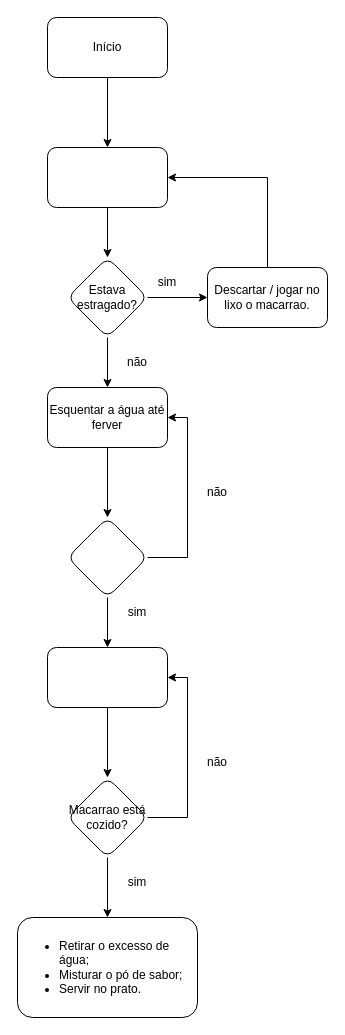
Image size: 345x1035. Some labels were removed from this diagram. The box of each missing label's shape, as (x1, y1, x2, y2) in pixels:
Abrir nova embalagem de macarrao instantaneo: (46, 146, 168, 208)
Colocar o macarrao na água fervendo.: (46, 646, 168, 708)
Água Ferveu?: (66, 516, 148, 598)
